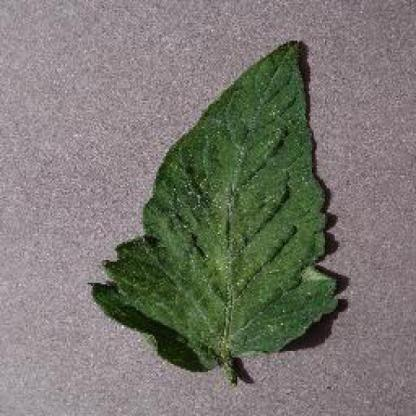Tomato_Spider_Mites: (101, 41, 336, 367)
